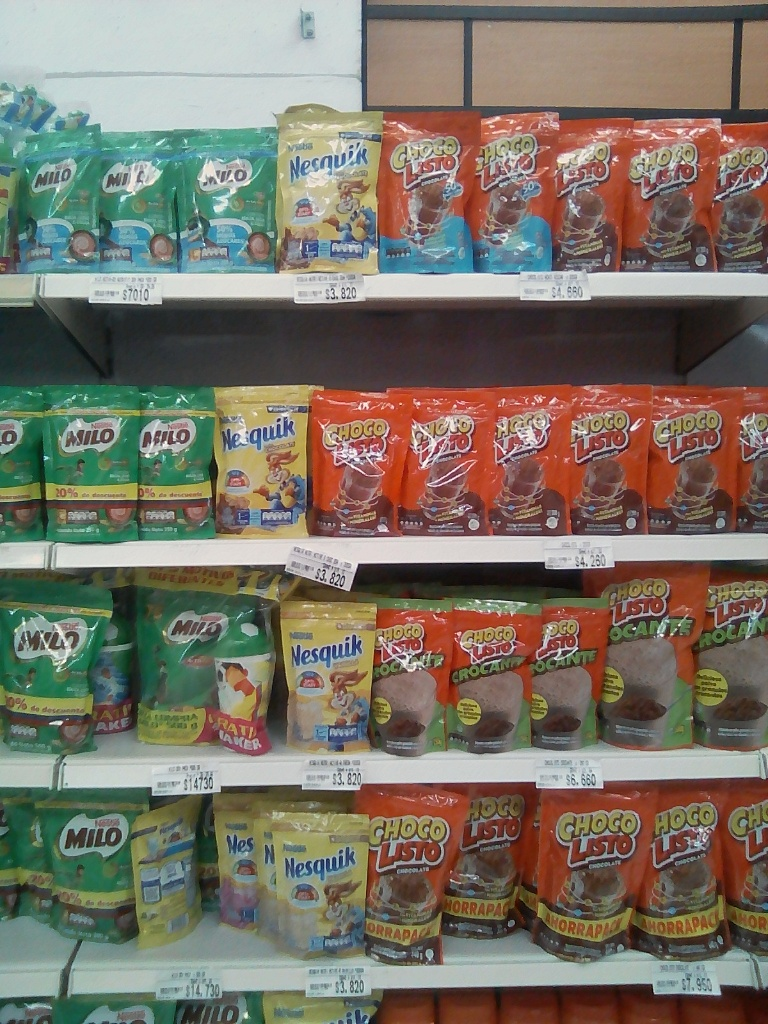COL0170102DYP25000: (373, 596, 457, 754)
COL0170102DYP50000: (587, 561, 705, 752)
COL0170103DYP20000: (530, 113, 628, 273)
COL0170103DYP44000: (350, 786, 454, 965)
COL0170104DYP20000: (379, 113, 480, 270)
COL0170203DYP25000: (24, 388, 138, 542)
COL0170203DYP50000: (3, 575, 112, 751)
COL0170205DYP20000: (18, 126, 107, 268)
COL0170303DYP20000: (124, 789, 209, 959)
COL0170305DYP20000: (211, 787, 281, 946)
COL0170306DYP20000: (210, 383, 311, 536)
